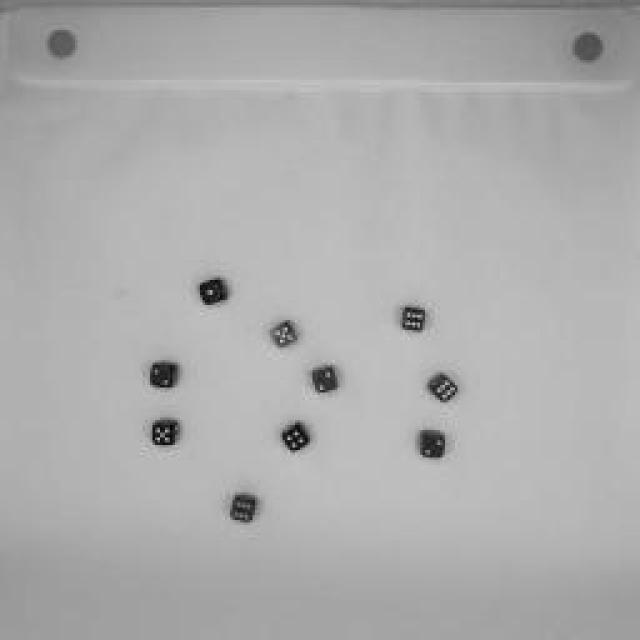dice_1: (196, 278, 229, 308)
dice_2: (308, 362, 342, 398), (148, 358, 180, 392), (418, 429, 448, 461)
dice_4: (278, 423, 312, 455)
dice_5: (266, 318, 302, 352), (148, 418, 180, 448)
dice_6: (424, 372, 461, 406), (226, 493, 259, 525), (398, 305, 428, 333)
